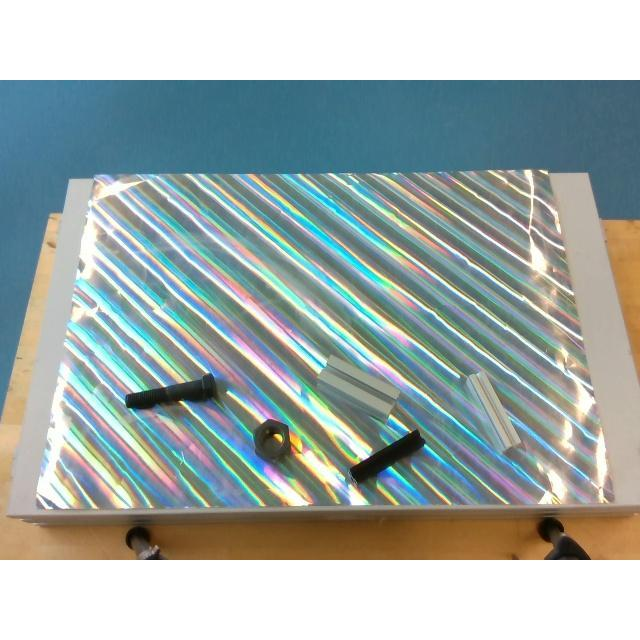F20_20_B: (348, 429, 424, 483)
F20_20_G: (466, 370, 520, 450)
M20_100: (124, 372, 216, 408)
M30: (253, 419, 291, 459)
S40_40_G: (317, 355, 399, 423)
